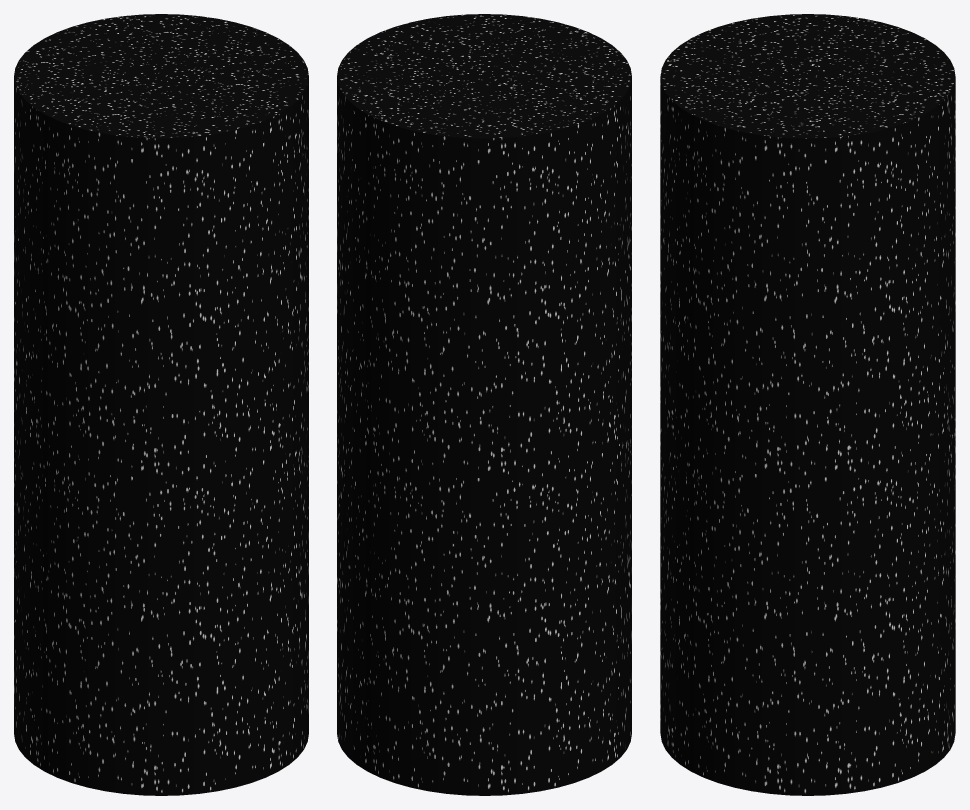
File: rodillo2.glb
The picture shows the model from 3 angles, left to right: view 1: azimuth 30°, elevation 25°; view 2: azimuth 150°, elevation 25°; view 3: azimuth 270°, elevation 25°; orthographic projection.
Parts seen in each view (by area): view 1: Cylinder; view 2: Cylinder; view 3: Cylinder.
Boxes of the visible parts, x1=… form: Cylinder: x1=14, y1=14, x2=308, y2=795; Cylinder: x1=337, y1=14, x2=631, y2=795; Cylinder: x1=660, y1=14, x2=955, y2=795.
Size of the model in its own units: 2.32 by 5.71 by 2.32.
Materials: 1 (1 with a texture image).
